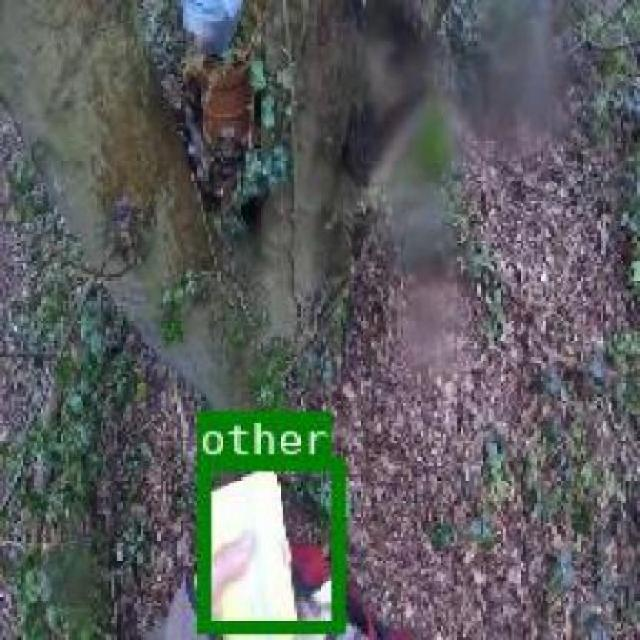Smoke: (195, 456, 342, 629)
